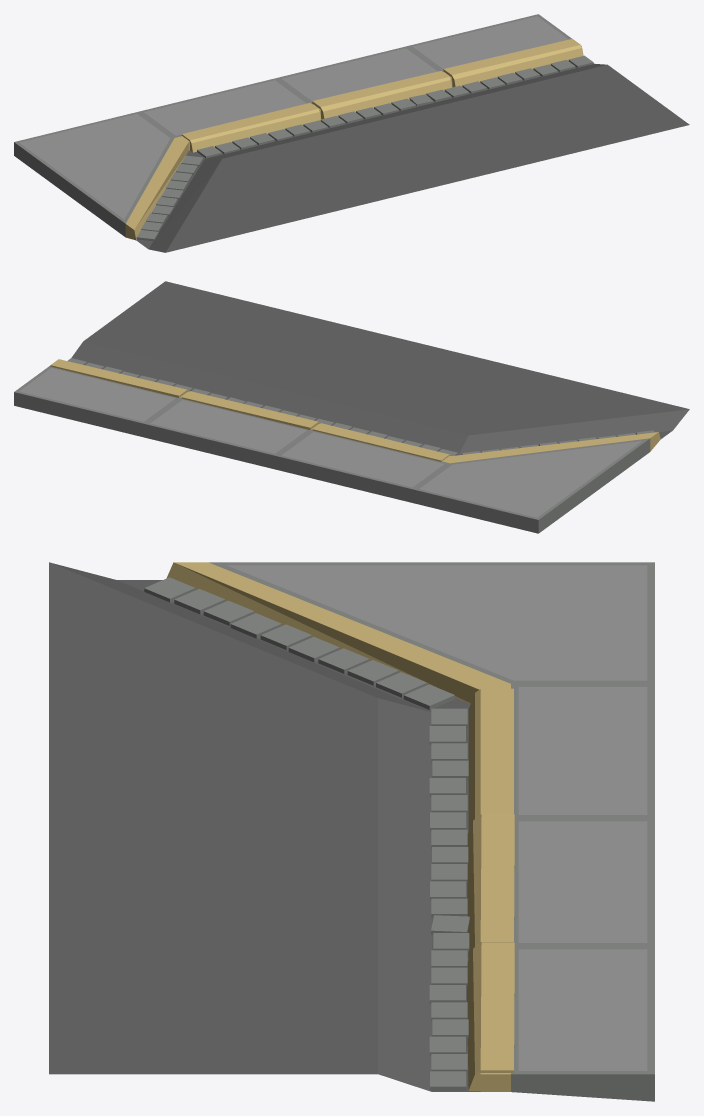
Rendered from SM_sidewalk_01_trim.glb.
3 views of the same model, one above another, from view 1: azimuth 30°, elevation 25°; view 2: azimuth 150°, elevation 25°; view 3: azimuth 270°, elevation 25° (orthographic). The views are drawn at different scales.
Visible parts, largest first — view 1: SM_sidewalk_01_trim; view 2: SM_sidewalk_01_trim; view 3: SM_sidewalk_01_trim.
Boxes of the visible parts, box(x1,y1,x2,y2) form: SM_sidewalk_01_trim: box(14, 14, 689, 252); SM_sidewalk_01_trim: box(14, 281, 689, 533); SM_sidewalk_01_trim: box(49, 562, 654, 1101).
Bounding box in the file's own units: 8 × 0.2351 × 4.
Materials: 1 (1 with a texture image).
